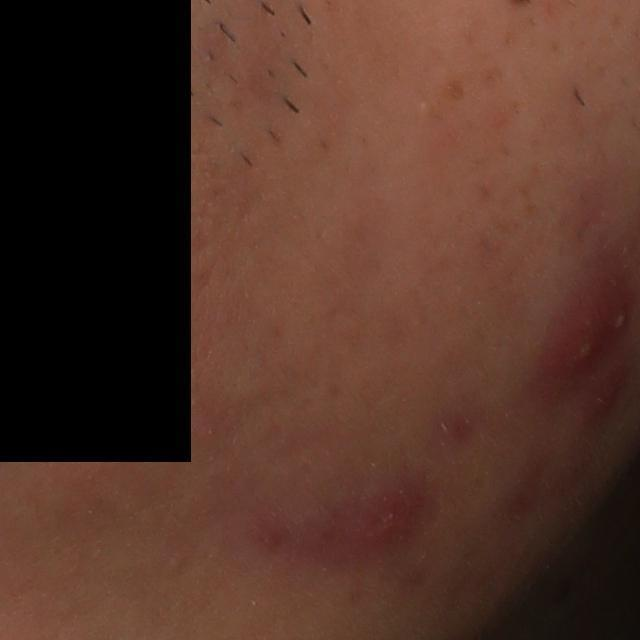nodule: (530, 263, 638, 406)
papule: (333, 477, 423, 556), (585, 367, 623, 423)
